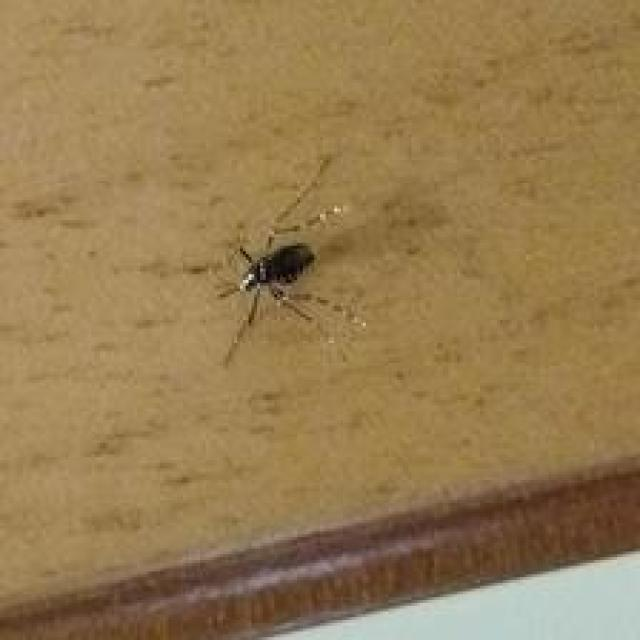Aedes albopictus: (211, 154, 360, 369)
